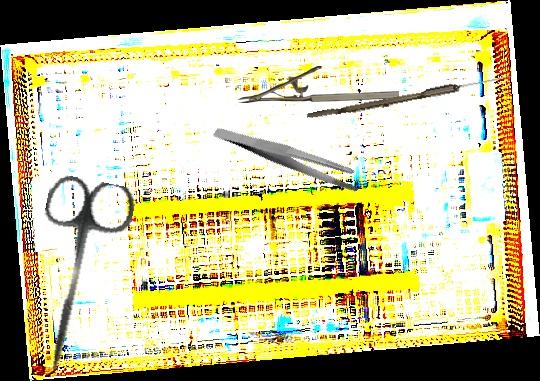Dressing Forceps: (212, 92, 366, 222)
Iris Scissors: (15, 172, 138, 381)
Needle Holder: (238, 66, 399, 103)
Surgical Spoon: (306, 70, 513, 124)
